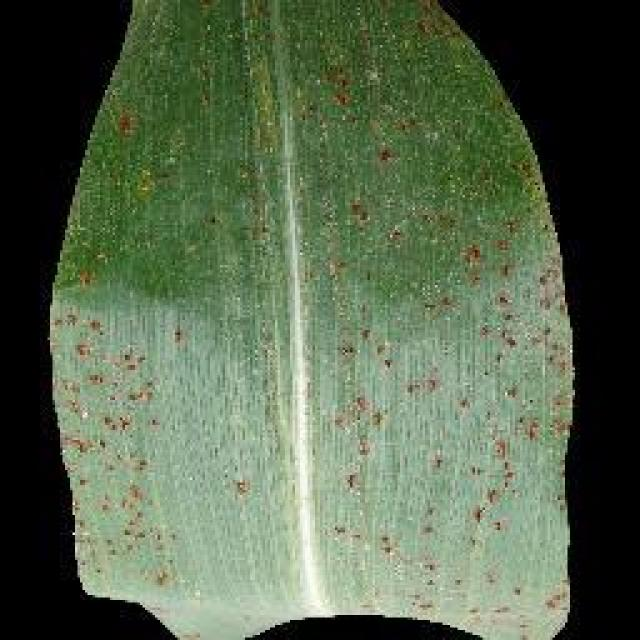Corn Common Rust: (88, 133, 550, 585)
